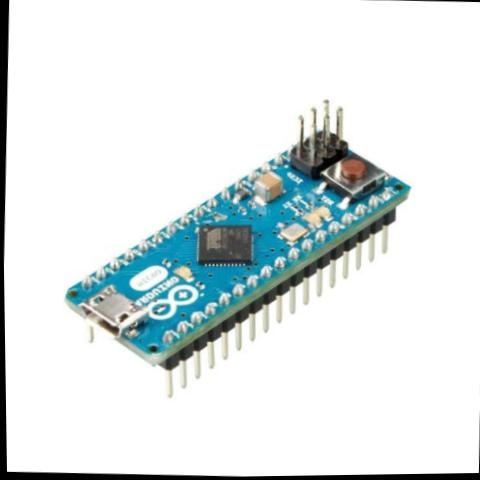Arduino-Micro: (40, 80, 422, 442)
